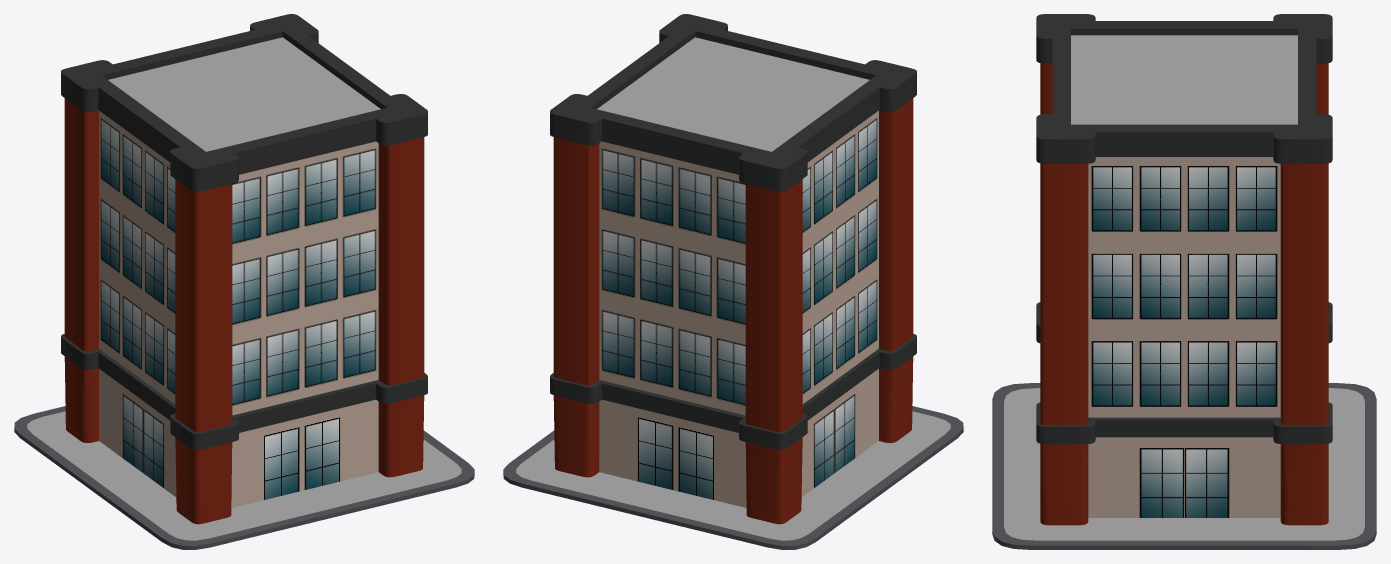
Rendered from Communiste_Bat_1.fbx.
3 views of the same model, side by side, from view 1: azimuth 30°, elevation 25°; view 2: azimuth 150°, elevation 25°; view 3: azimuth 270°, elevation 25° (orthographic). The views are drawn at different scales.
Parts seen in each view (by area): view 1: Communiste_Bat_1; view 2: Communiste_Bat_1; view 3: Communiste_Bat_1.
Boxes of the visible parts, left/top/right/bottom form: Communiste_Bat_1: left=14, top=14, right=474, bottom=549; Communiste_Bat_1: left=503, top=14, right=963, bottom=549; Communiste_Bat_1: left=992, top=14, right=1376, bottom=549.
Size of the model in its own units: 315 by 354 by 315.
